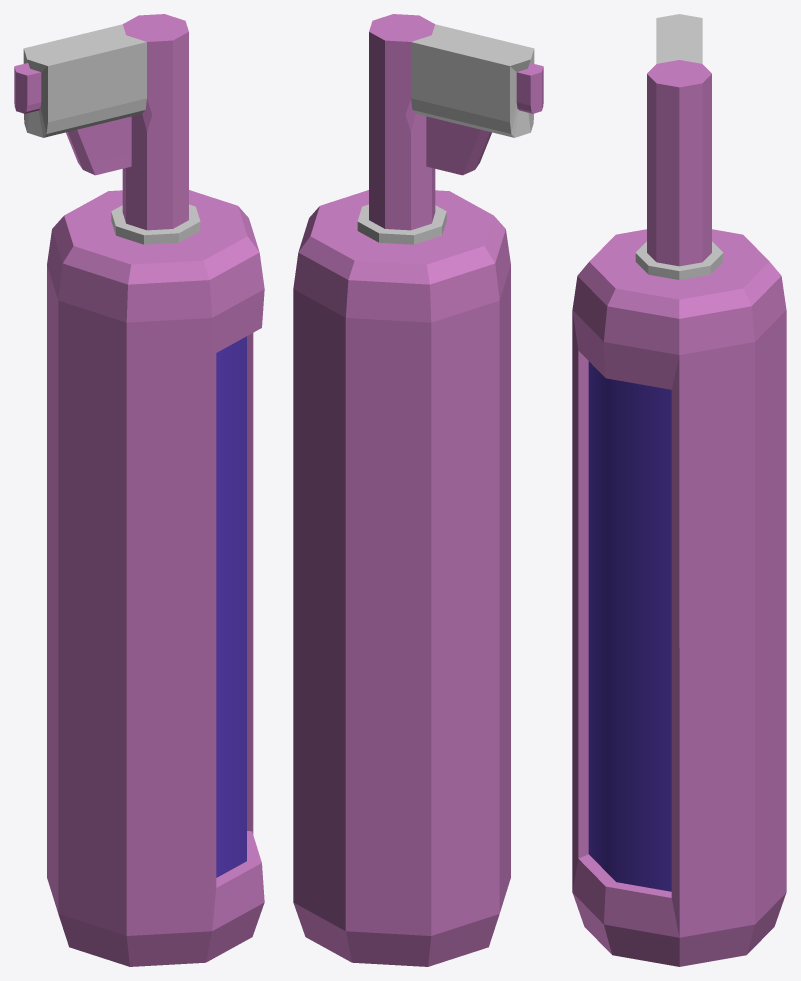
The model's file is Tarro_agua.fbx.
3 views of the same model, side by side, from view 1: azimuth 30°, elevation 25°; view 2: azimuth 150°, elevation 25°; view 3: azimuth 270°, elevation 25° (orthographic). The views are drawn at different scales.
Visible parts, largest first — view 1: Cylinder, Cylinder.001; view 2: Cylinder; view 3: Cylinder, Cylinder.001.
Part boxes in pixels (bbox=[...]): Cylinder: bbox=[14, 14, 264, 966]; Cylinder.001: bbox=[216, 336, 246, 877]; Cylinder: bbox=[293, 14, 543, 966]; Cylinder: bbox=[572, 14, 786, 966]; Cylinder.001: bbox=[588, 361, 671, 891].
Bounding box in the file's own units: 132 × 477 × 108.
